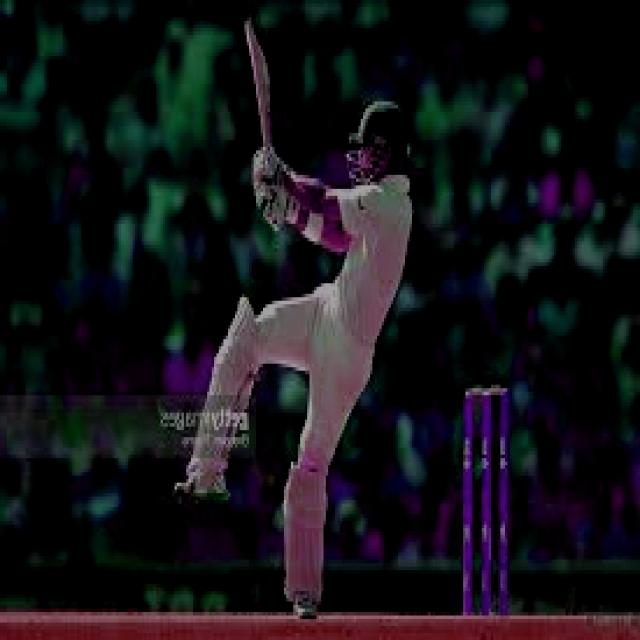toe: (235, 14, 264, 48)
